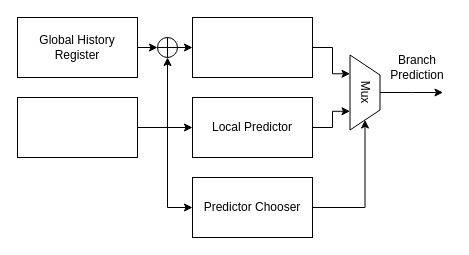
The diagram is 469 pixels wide and 255 high, and some of its shapes have lost their labels. Here are the shapes that lost their labels. From the top down, the box of each, then its label:
(192, 16, 312, 78): Global Predictor
(16, 96, 138, 158): Program Counter
